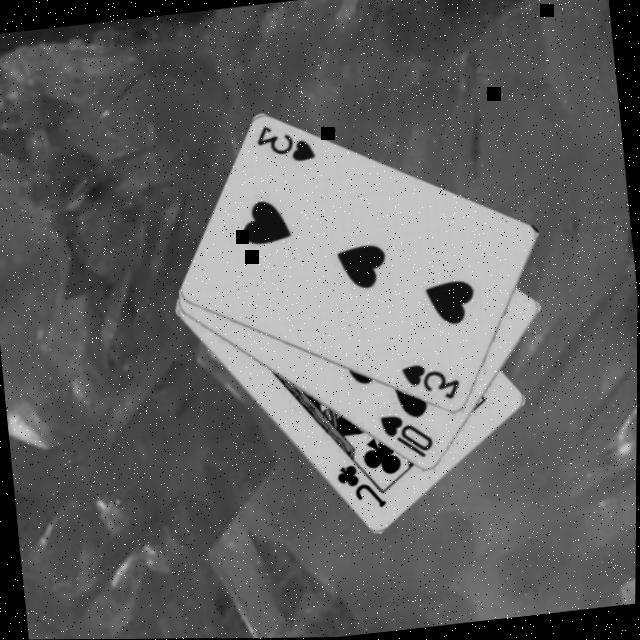10H: (377, 405, 438, 463)
3H: (252, 117, 320, 167), (399, 355, 465, 405)
JC: (334, 456, 391, 513)
